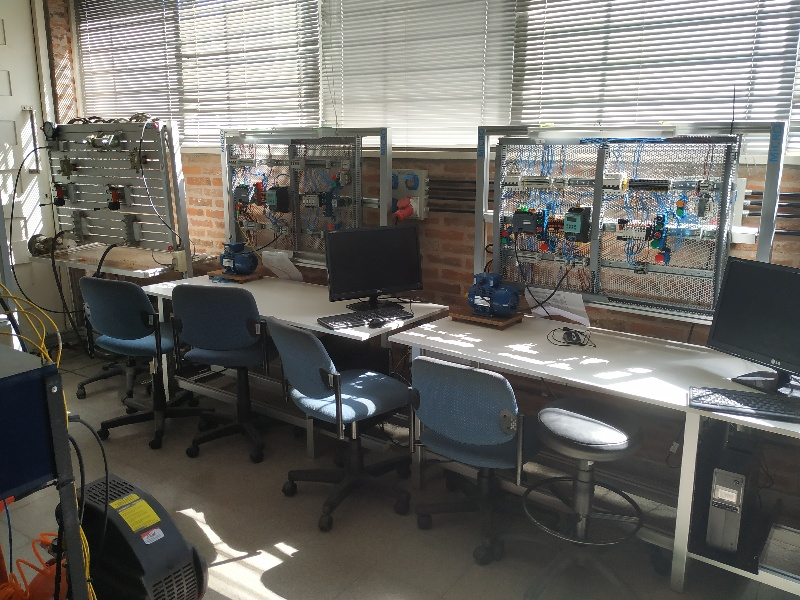Tablero 1: (230, 143, 353, 250)
Tablero 2: (502, 139, 723, 319)
Tablero 5: (42, 122, 171, 246)
